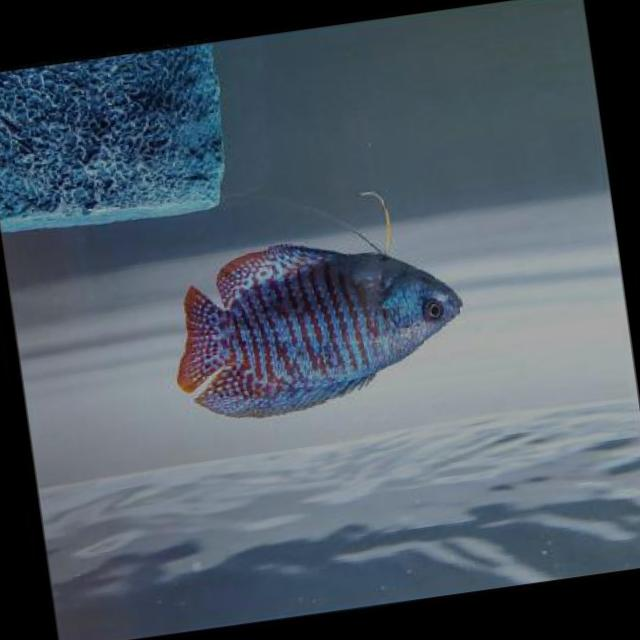Gourami: (161, 226, 472, 429)
